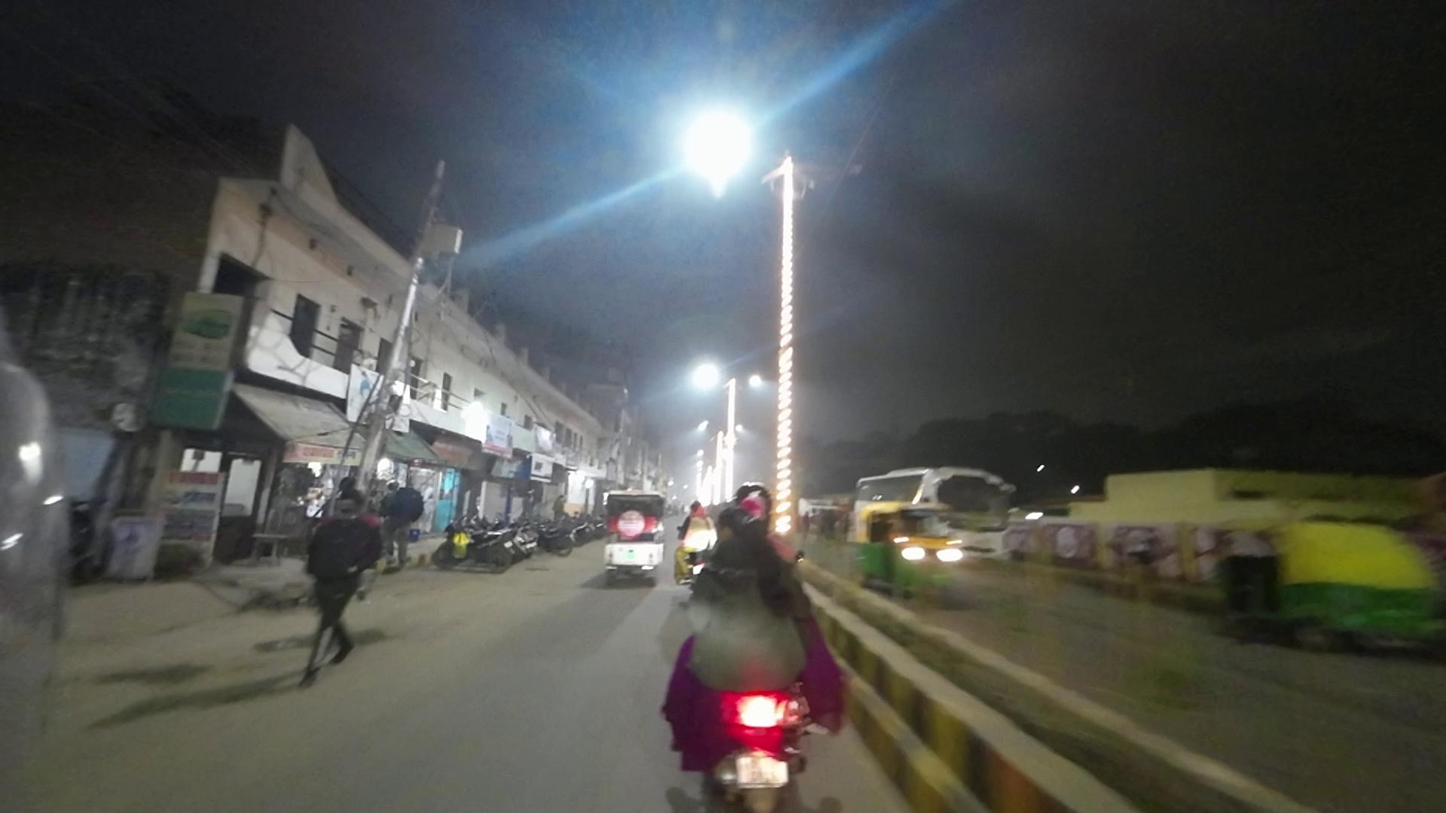streetlight: (799, 159, 865, 180)
